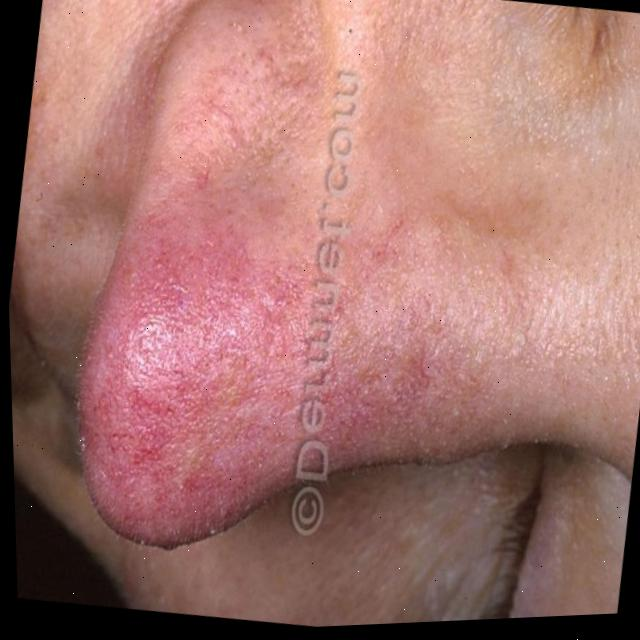Rosacea: (64, 164, 497, 576)
